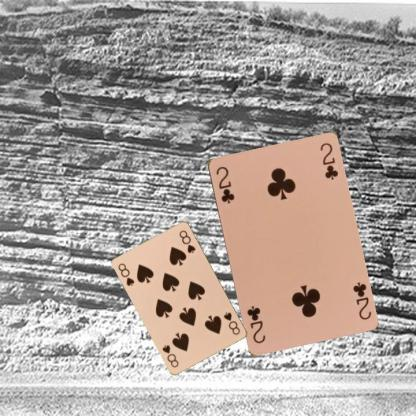2c: (349, 279, 372, 321), (213, 164, 236, 204)
8s: (221, 310, 242, 336), (115, 261, 136, 287)
